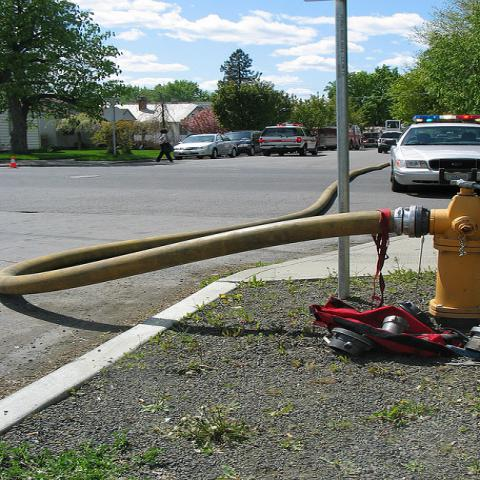car: (389, 115, 479, 193), (258, 126, 319, 156), (174, 133, 239, 159), (224, 131, 264, 156), (377, 130, 404, 154)
truck: (313, 125, 362, 150), (377, 130, 403, 154)
